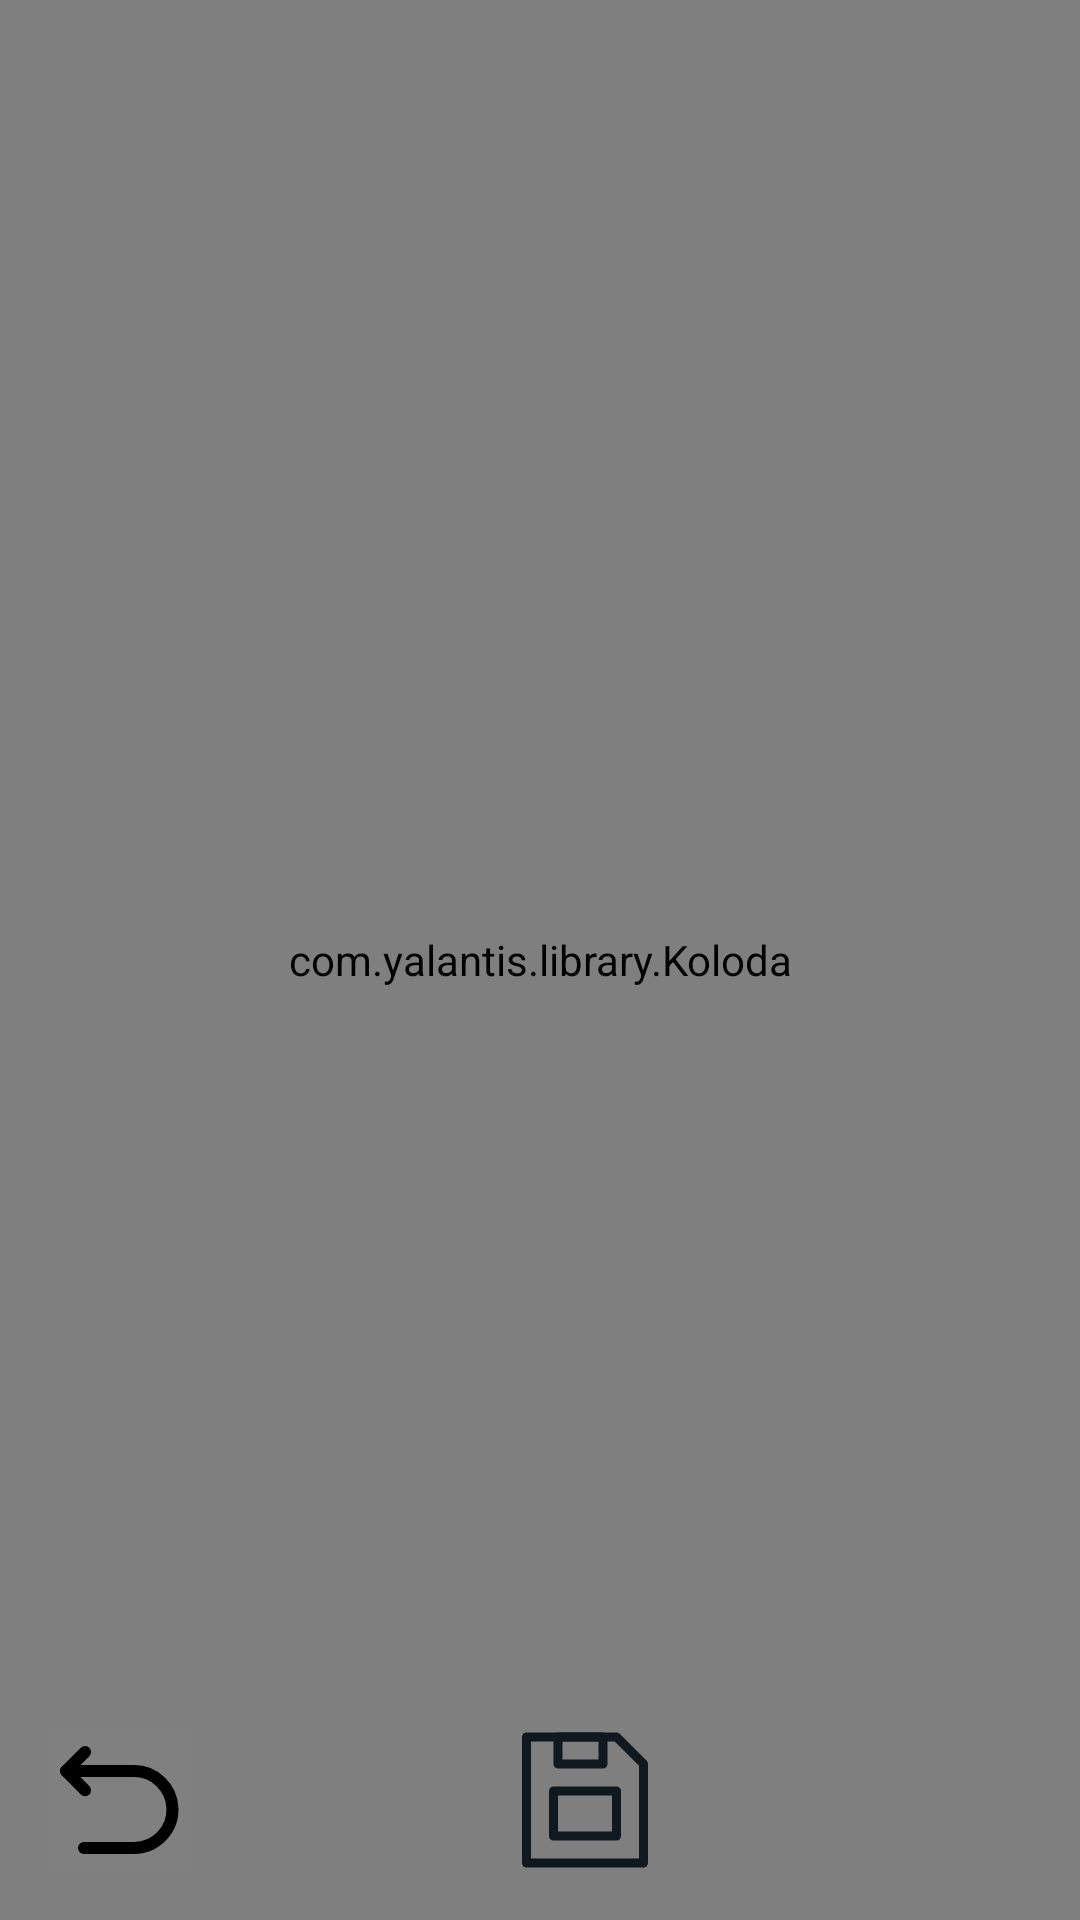

Named icons in this screenshot (1080px x 1920px) and their bounding boxes, (x1=x1, y1=y1, x2=x2, y2=y2):
Botón de guardar: (x1=522, y1=1732, x2=648, y2=1868)
Botón de volver: (x1=60, y1=1746, x2=179, y2=1854)
